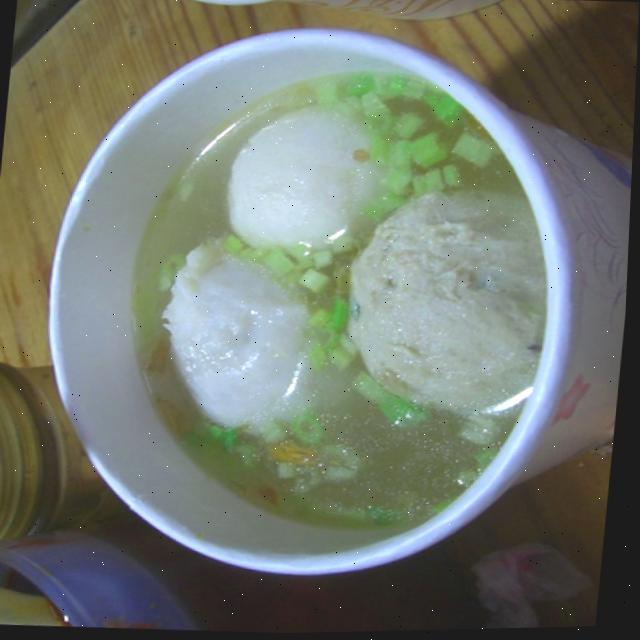熟制海鲜: (61, 38, 615, 594)
